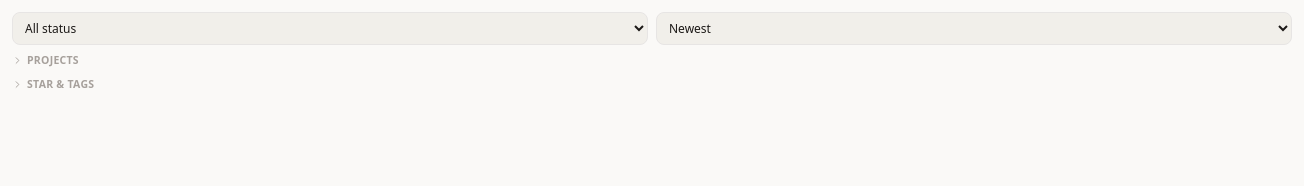
FilterRow pill context menu › renames a project through the menu
Click the button "Projects". click: x=53, y=60
box: [12,53,1292,69]
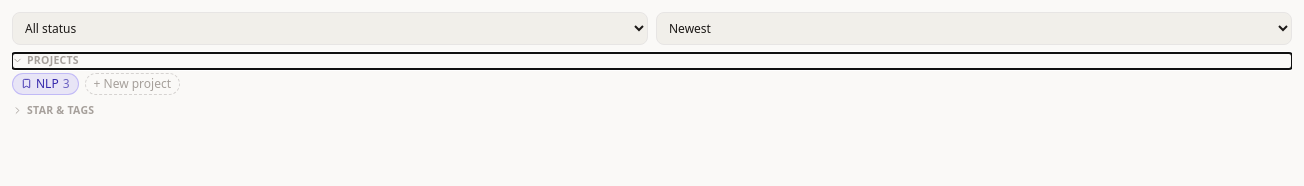
Right-click the button "NLP 3" at x=45, y=84, box [12,73,78,95]
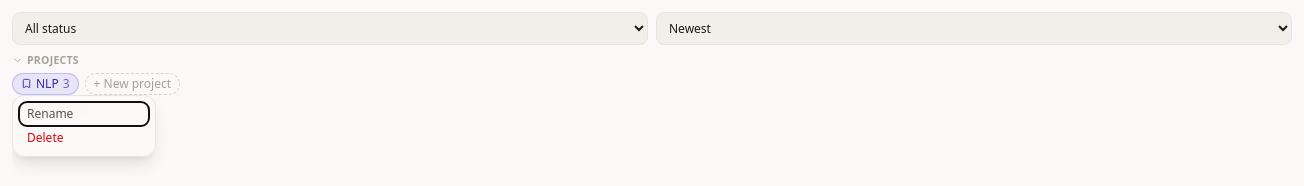
Click the menu item "Rename". click: x=84, y=114
box: [19,102,149,126]
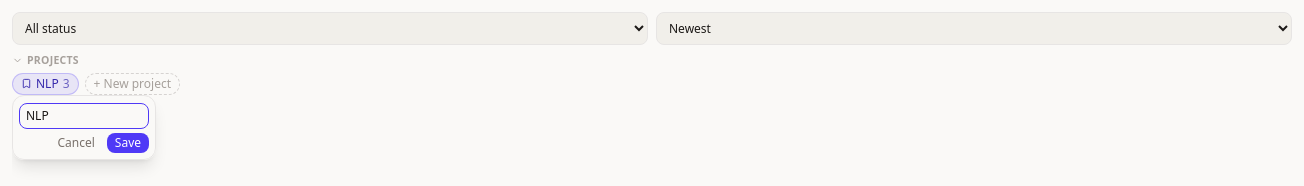
Expected: the field named "Rename NLP" holds "NLP"
Replace the text in the field named "Rename NLP" with "NLU". click: x=84, y=116
box: [19,103,149,129]
Then press Enter
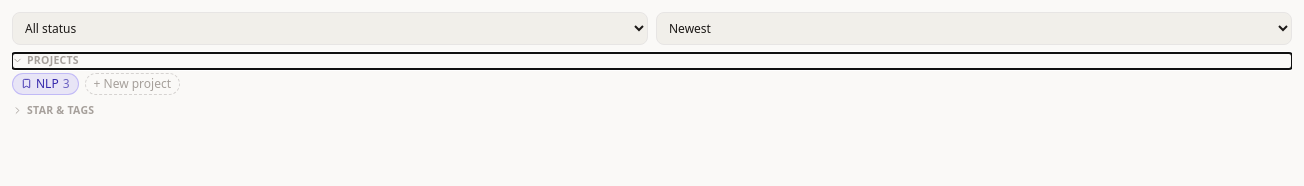
Expected: the menu is gone
